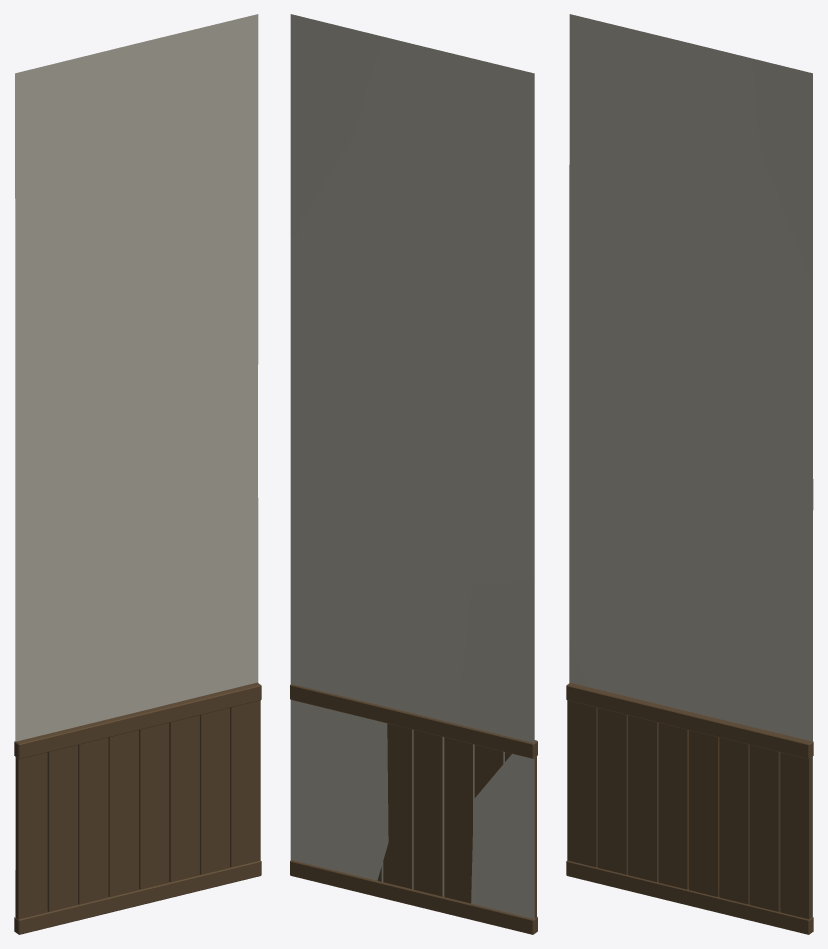
File: plaster-wall-lod1.fbx
The picture shows the model from 3 angles, left to right: view 1: azimuth 30°, elevation 25°; view 2: azimuth 150°, elevation 25°; view 3: azimuth 330°, elevation 25°; orthographic projection.
Visible parts, largest first — view 1: Undulating lime plaster, Classroom wainscot board.001, Classroom wainscot board.002, Classroom wainscot board.003, Classroom wainscot board.006, Classroom wainscot board.007, Classroom wainscot board, Classroom wainscot board.004, Classroom wainscot board.005, Classroom wainscot rail, Classroom wainscot rail.001; view 2: Undulating lime plaster, Classroom wainscot board.004, Classroom wainscot board.003, Classroom wainscot board.005, Classroom wainscot rail, Classroom wainscot rail.001, Classroom wainscot board.002, Classroom wainscot board.001; view 3: Undulating lime plaster, Classroom wainscot board, Classroom wainscot board.007, Classroom wainscot board.003, Classroom wainscot board.006, Classroom wainscot board.001, Classroom wainscot board.002, Classroom wainscot board.004, Classroom wainscot board.005, Classroom wainscot rail, Classroom wainscot rail.001.
Part boxes in pixels (<box>): Undulating lime plaster: <box>15,14,258,917</box>; Classroom wainscot board.001: <box>16,752,47,919</box>; Classroom wainscot board.002: <box>47,745,78,911</box>; Classroom wainscot board.003: <box>78,737,108,904</box>; Classroom wainscot board.006: <box>169,715,199,882</box>; Classroom wainscot board.007: <box>200,708,230,874</box>; Classroom wainscot board: <box>230,700,260,867</box>; Classroom wainscot board.004: <box>108,730,138,896</box>; Classroom wainscot board.005: <box>139,723,169,889</box>; Classroom wainscot rail: <box>14,682,261,759</box>; Classroom wainscot rail.001: <box>14,860,261,934</box>; Undulating lime plaster: <box>290,14,534,919</box>; Classroom wainscot board.004: <box>413,730,442,896</box>; Classroom wainscot board.003: <box>444,737,472,903</box>; Classroom wainscot board.005: <box>383,723,412,888</box>; Classroom wainscot rail: <box>290,684,537,758</box>; Classroom wainscot rail.001: <box>290,860,537,934</box>; Classroom wainscot board.002: <box>474,745,503,797</box>; Classroom wainscot board.001: <box>505,752,536,918</box>; Undulating lime plaster: <box>569,14,813,917</box>; Classroom wainscot board: <box>780,752,811,919</box>; Classroom wainscot board.007: <box>749,745,780,911</box>; Classroom wainscot board.003: <box>628,715,658,882</box>; Classroom wainscot board.006: <box>719,737,749,904</box>; Classroom wainscot board.001: <box>567,700,597,867</box>; Classroom wainscot board.002: <box>597,708,627,874</box>; Classroom wainscot board.004: <box>658,723,688,889</box>; Classroom wainscot board.005: <box>689,730,719,896</box>; Classroom wainscot rail: <box>566,682,813,759</box>; Classroom wainscot rail.001: <box>566,860,813,934</box>.
Size of the model in its own units: 100 by 338 by 3.5.
